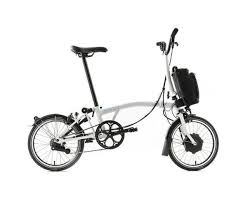bicycle: (20, 28, 226, 175)
